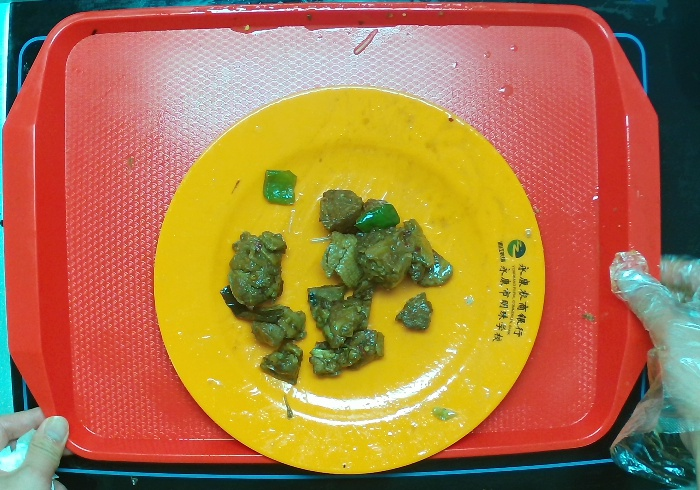YKMZ-Ju_Se_Mian_Pan: (151, 84, 547, 475)
